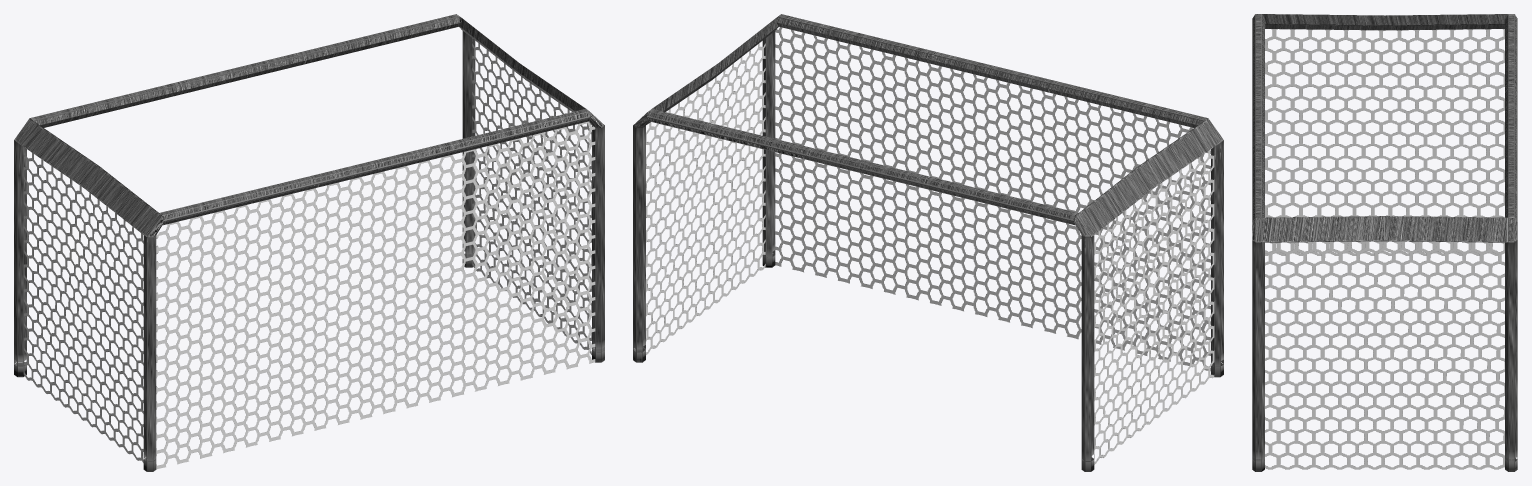
File: goal.obj
3 views of the same model, side by side, from view 1: azimuth 30°, elevation 25°; view 2: azimuth 150°, elevation 25°; view 3: azimuth 270°, elevation 25° (orthographic). The views are drawn at different scales.
Visible parts, largest first — view 1: Cylinder; view 2: Cylinder; view 3: Cylinder.
Boxes of the visible parts, bbox=[...] form: Cylinder: bbox=[14, 14, 604, 471]; Cylinder: bbox=[633, 14, 1223, 471]; Cylinder: bbox=[1252, 14, 1517, 471].
Size of the model in its own units: 16.35 by 8.62 by 8.4.
